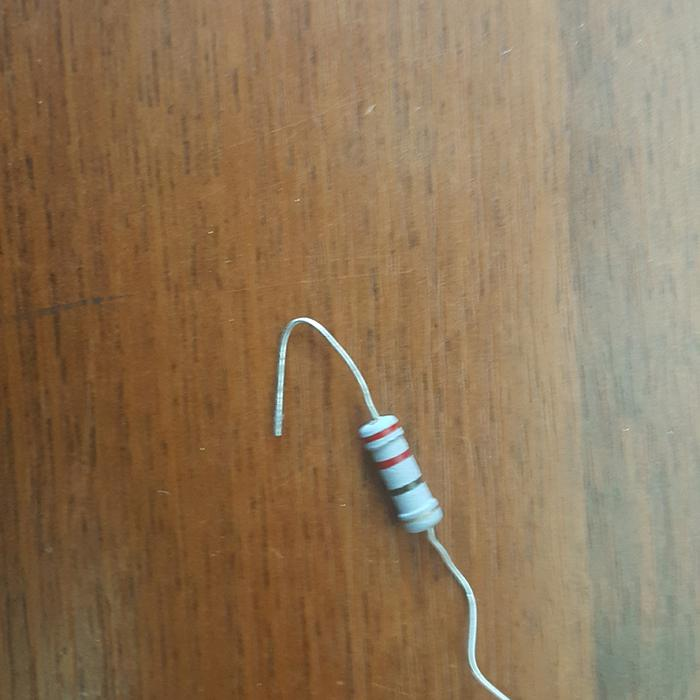resistor: (357, 413, 441, 533)
